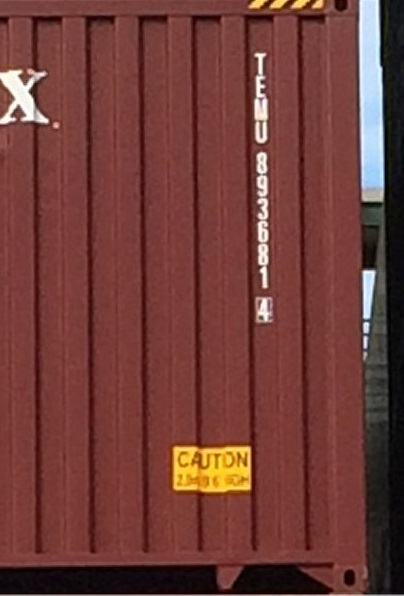container_no_door: (1, 1, 361, 594)
